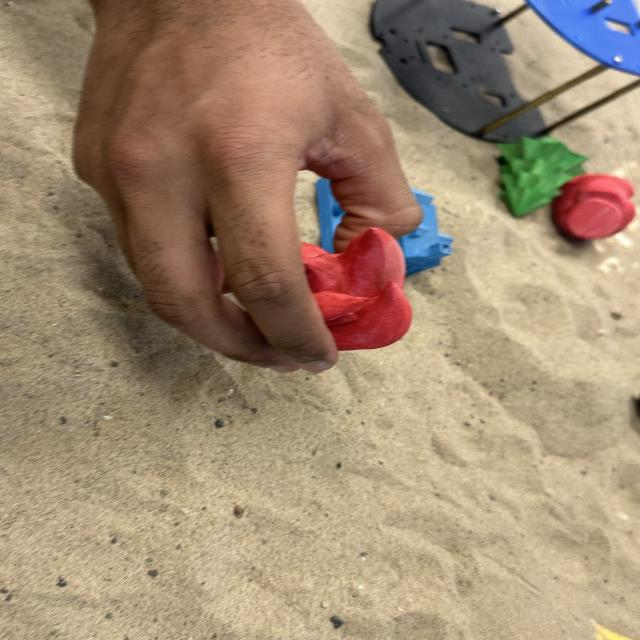fire: (296, 232, 416, 352), (552, 170, 638, 241)
tree: (494, 134, 589, 218)
